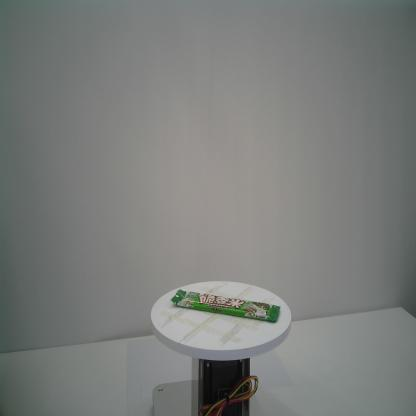Chocolate: (169, 286, 282, 325)
